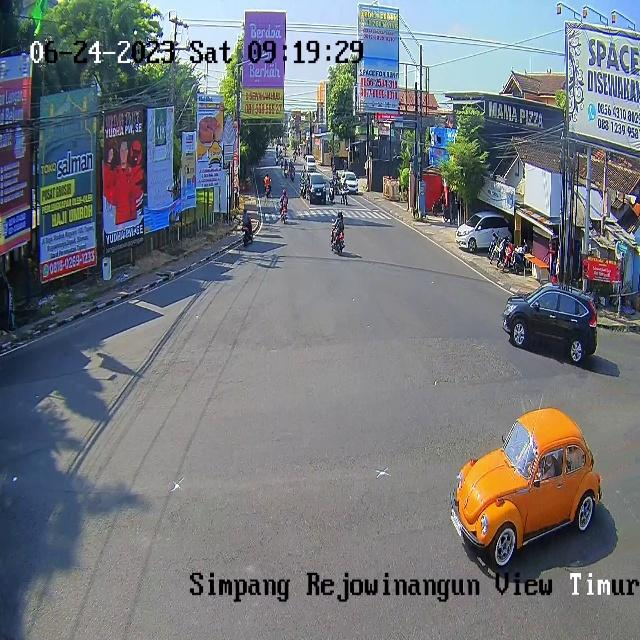bus: (332, 222, 345, 256), (242, 217, 254, 246), (341, 186, 348, 205), (281, 207, 287, 224), (290, 167, 296, 181), (330, 186, 334, 204), (266, 184, 270, 199), (284, 166, 289, 178)
motorcycle: (452, 406, 603, 572), (504, 282, 597, 363), (456, 212, 513, 252), (306, 172, 327, 204), (341, 172, 358, 192), (304, 154, 316, 172)
